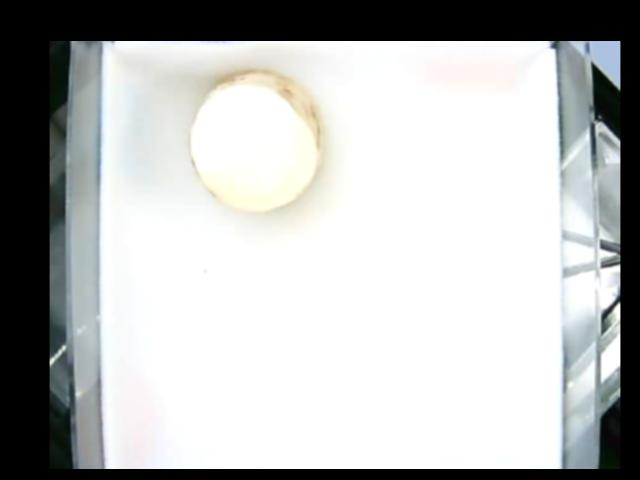Mooli: (191, 68, 322, 209)
